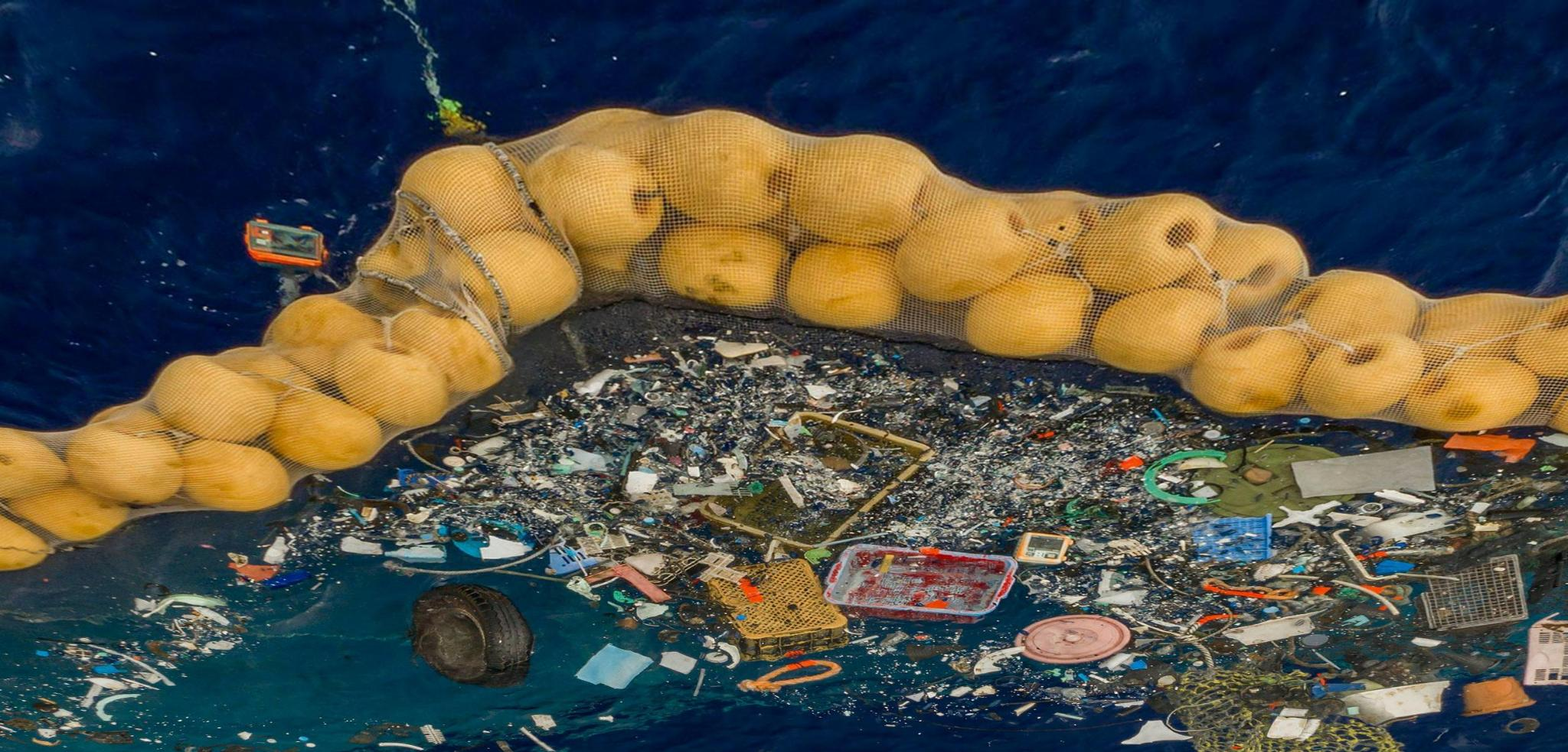Plastic Pollution: (529, 367, 1493, 744)
